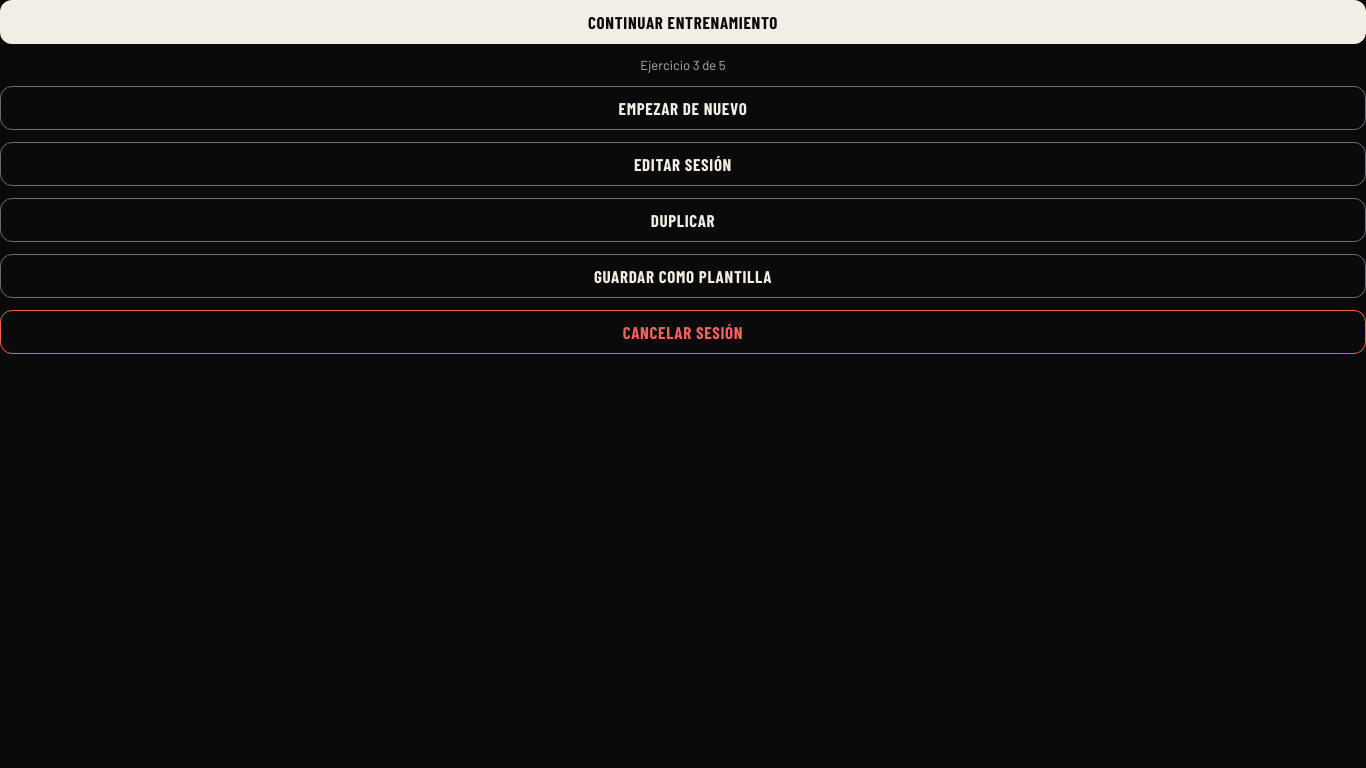
PracticeActions · continuar entrenamiento › «Empezar de nuevo» pregunta antes y no borra nada hasta confirmar
Click the button "Empezar de nuevo".
click(683, 108)  # box left=0, top=86, right=1365, bottom=130
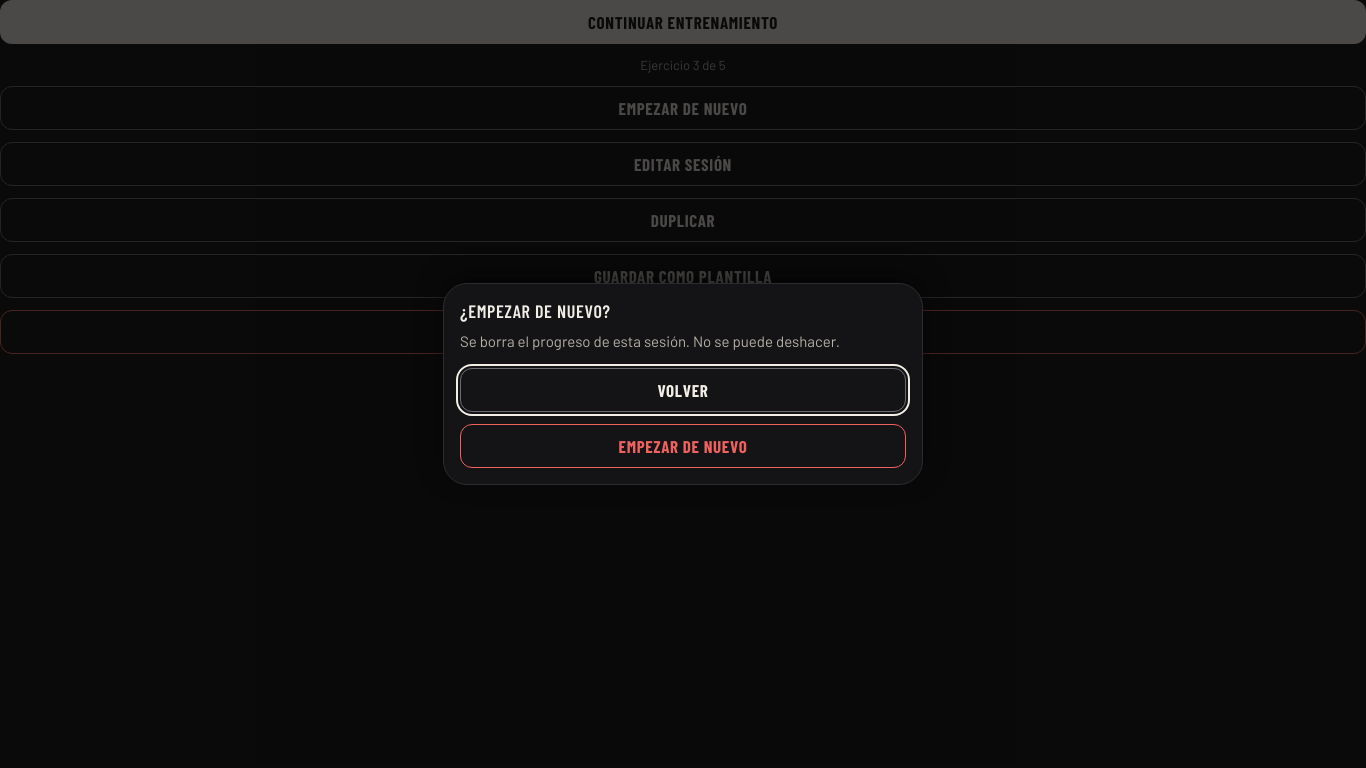
Now the dialog "¿Empezar de nuevo?" shows "Se borra el progreso de esta sesión. No se puede deshacer.", box left=460, top=332, right=840, bottom=350
Click the button "Volver".
click(683, 390)  # box left=460, top=368, right=906, bottom=412
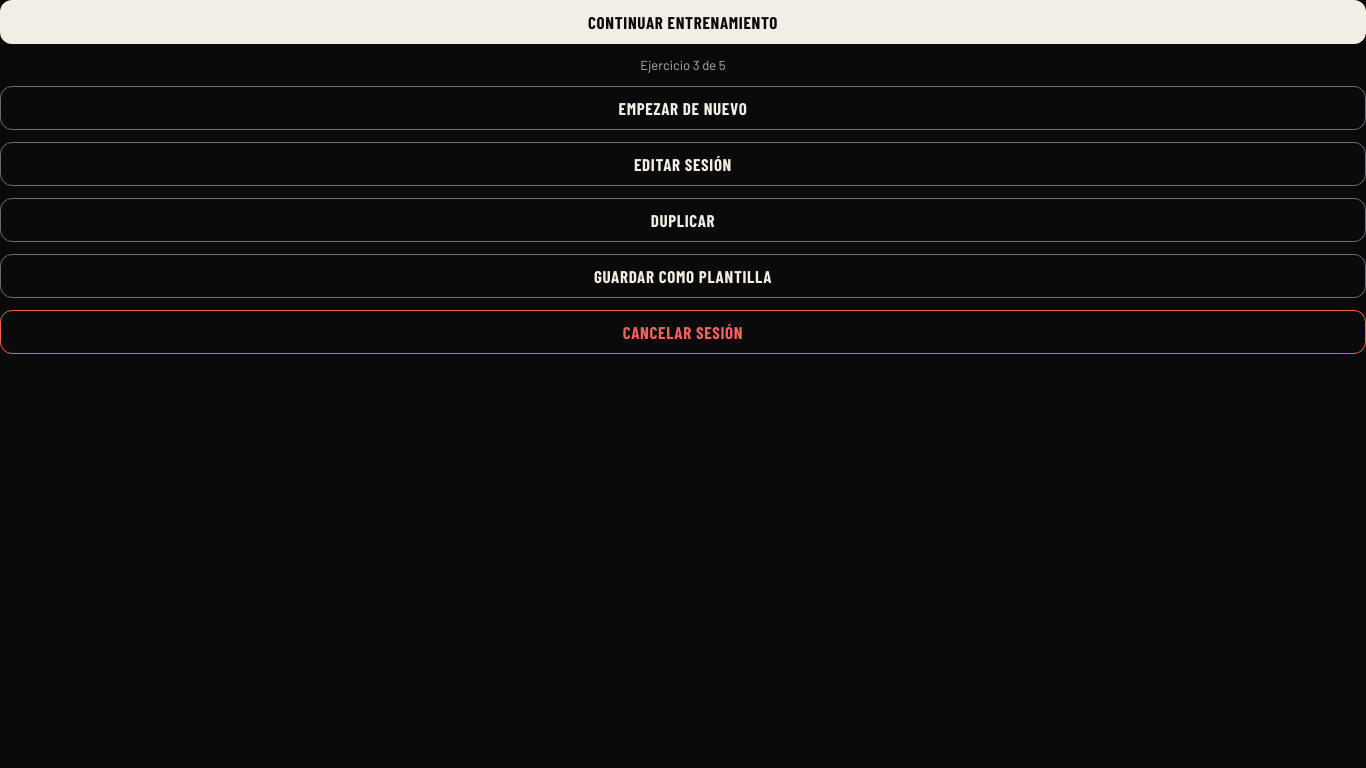
Now the dialog is gone
